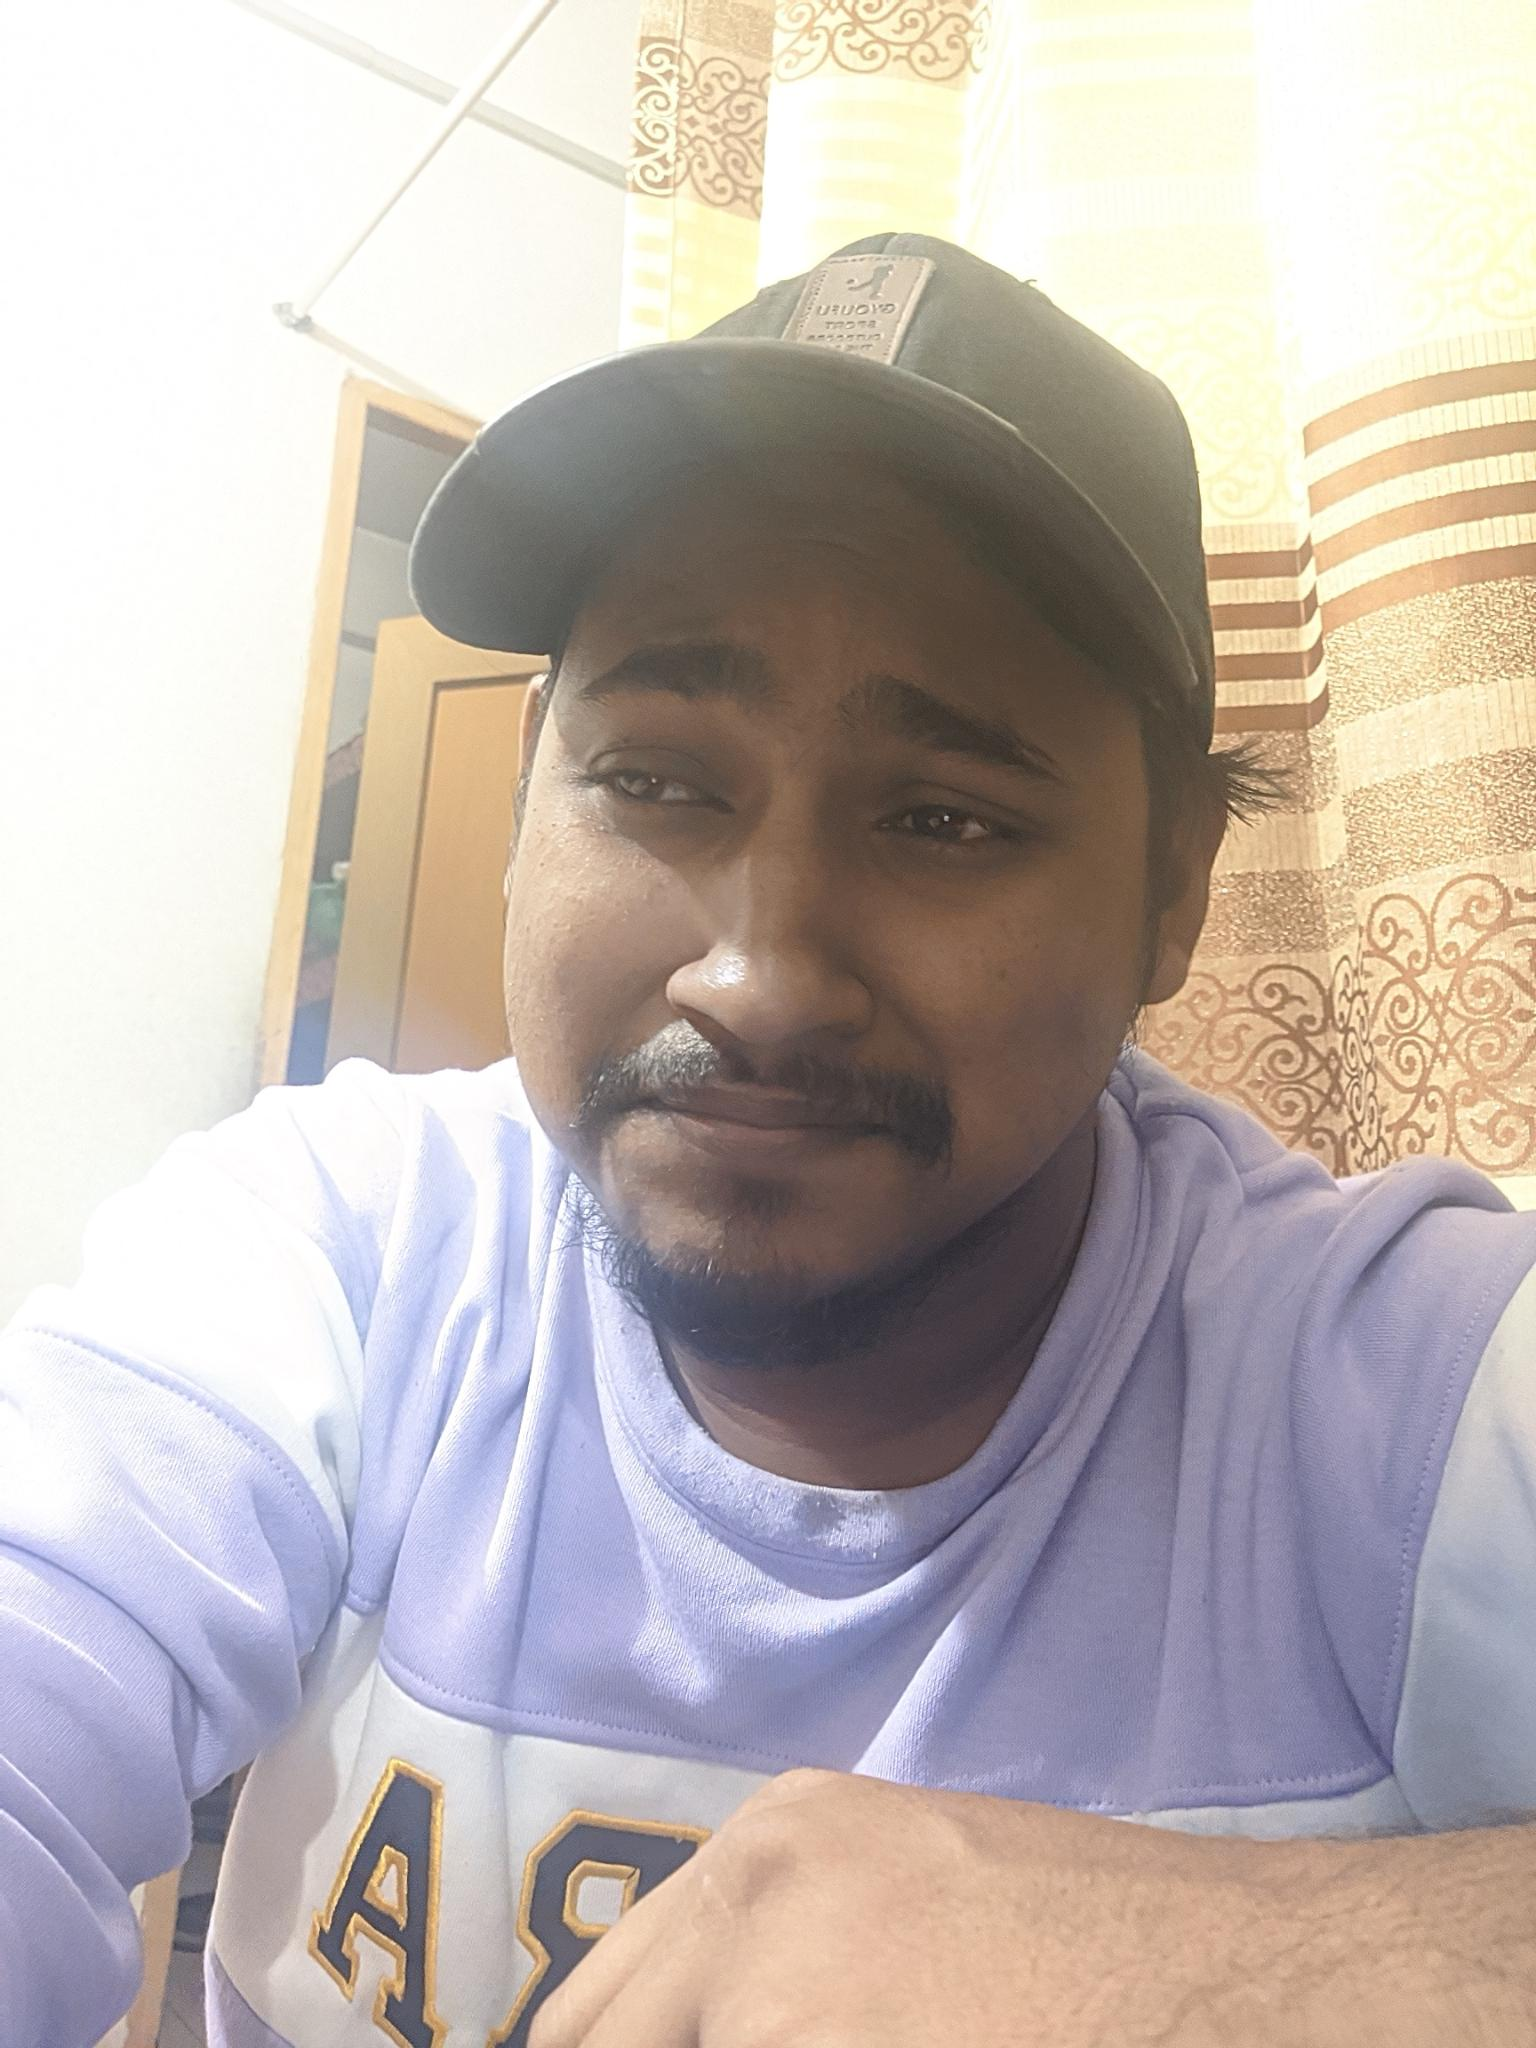Sad: (513, 589, 1105, 1313)
